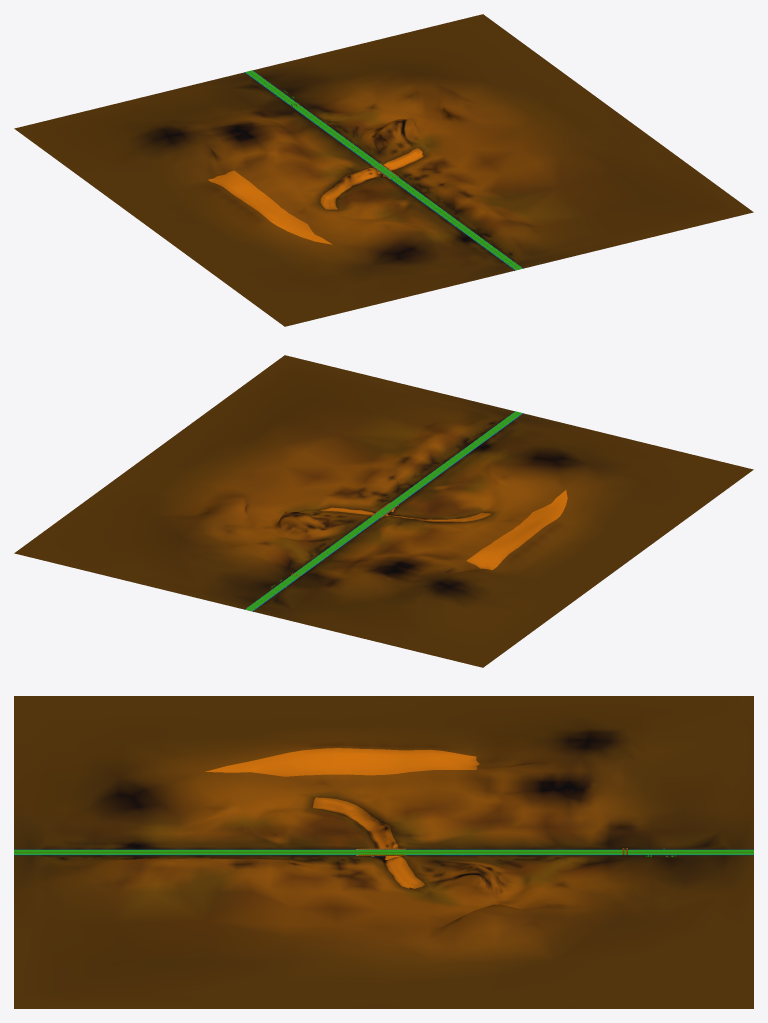
File: block_highway_straight_col.fbx
3 renders of one model, top to bottom at view 1: azimuth 30°, elevation 25°; view 2: azimuth 150°, elevation 25°; view 3: azimuth 270°, elevation 25°, orthographic. The views are drawn at different scales.
Parts seen in each view (by area): view 1: block_highway_straight_col; view 2: block_highway_straight_col; view 3: block_highway_straight_col.
Boxes of the visible parts, x1,y1,x2,y2 form: block_highway_straight_col: (14,14,753,326); block_highway_straight_col: (14,355,753,667); block_highway_straight_col: (14,696,753,1008).
Bounding box in the file's own units: 2500 × 90.01 × 2500.
